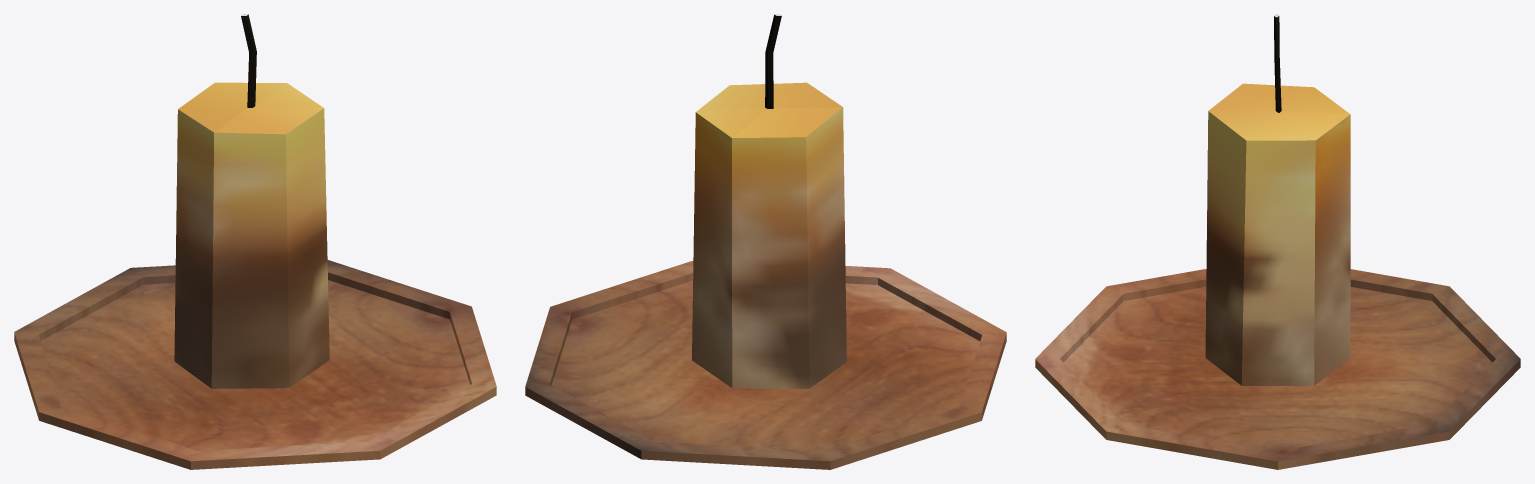
The model's file is vela.fbx.
3 renders of one model, left to right at view 1: azimuth 30°, elevation 25°; view 2: azimuth 150°, elevation 25°; view 3: azimuth 270°, elevation 25°, orthographic. The views are drawn at different scales.
Parts seen in each view (by area): view 1: vela; view 2: vela; view 3: vela.
Boxes of the visible parts, bbox=[...] form: vela: bbox=[14, 14, 496, 469]; vela: bbox=[525, 14, 1006, 469]; vela: bbox=[1035, 14, 1520, 469].
Bounding box in the file's own units: 33.09 × 27.91 × 33.09.
1 material, 1 textured.
